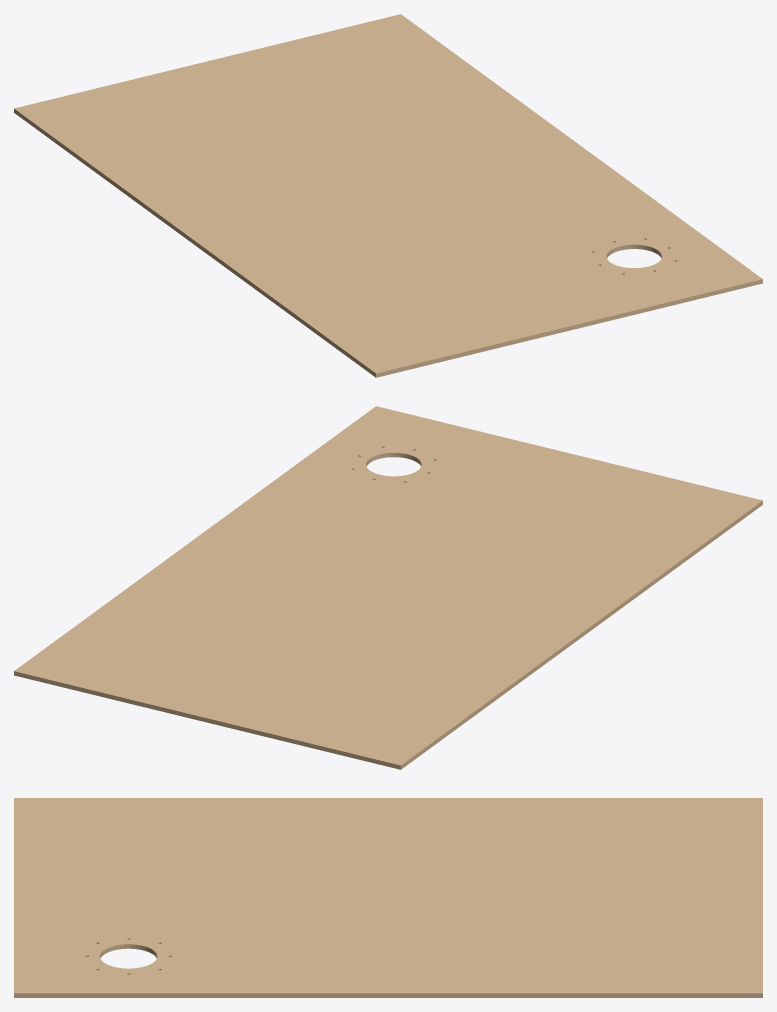
The model's file is NyxBoxV1_NyxRoyalLitterBot v106_BackPanel_1_ExteriorSheetBack_1_Body1.obj.
3 views of the same model, one above another, from view 1: azimuth 30°, elevation 25°; view 2: azimuth 150°, elevation 25°; view 3: azimuth 270°, elevation 25° (orthographic). The views are drawn at different scales.
Visible parts, largest first — view 1: Body1; view 2: Body1; view 3: Body1.
Boxes of the visible parts, x1=… form: Body1: x1=14, y1=14, x2=762, y2=377; Body1: x1=14, y1=406, x2=762, y2=769; Body1: x1=14, y1=798, x2=762, y2=997.
Size of the model in its own units: 564 by 6 by 914.
